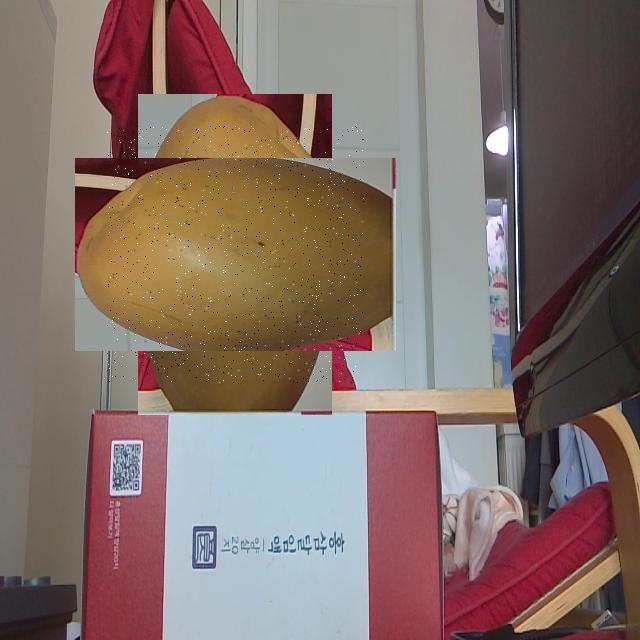pear: (107, 126, 364, 383)
